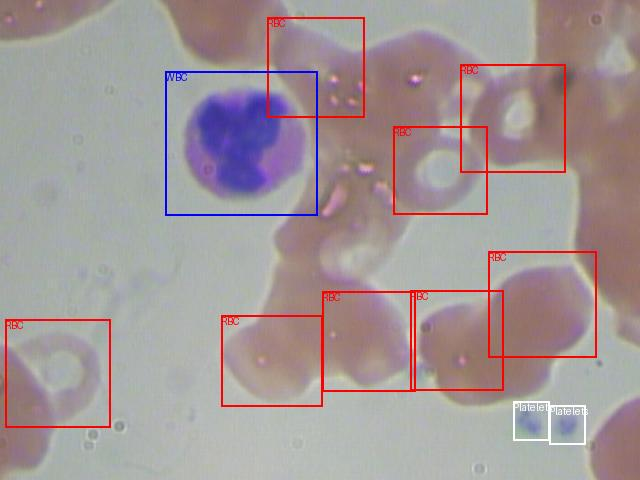Platelets: (549, 405, 585, 444), (513, 401, 549, 440)
RBC: (488, 251, 596, 357), (460, 64, 565, 172), (5, 319, 110, 427), (267, 17, 364, 117), (322, 291, 415, 391), (410, 290, 503, 390), (221, 315, 322, 406), (393, 126, 487, 214)
WBC: (165, 71, 317, 215)
